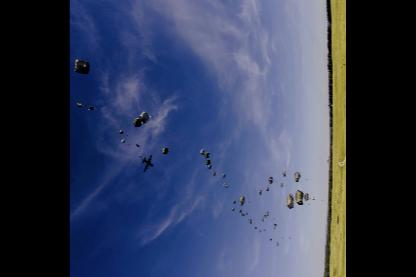Be200: (140, 154, 152, 172), (270, 236, 272, 242)
